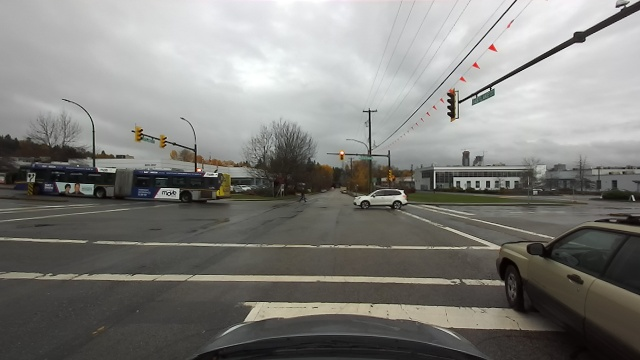car: (485, 208, 636, 356), (350, 189, 412, 209), (233, 184, 249, 194)
